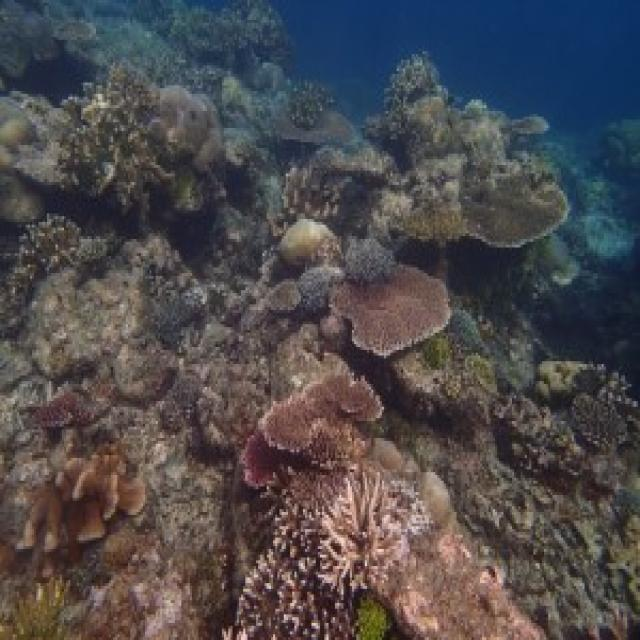Healthy: (61, 66, 210, 220), (383, 524, 545, 638), (234, 493, 355, 638), (244, 376, 381, 487), (370, 58, 507, 166), (385, 311, 496, 436), (18, 445, 146, 553), (1, 214, 110, 331), (29, 268, 144, 376), (402, 175, 568, 246), (283, 149, 411, 237), (319, 467, 406, 595), (330, 266, 451, 357), (123, 240, 206, 348), (551, 362, 639, 453), (1, 95, 61, 220), (496, 396, 581, 473), (148, 86, 221, 172), (1, 581, 65, 638), (280, 220, 336, 263), (300, 266, 344, 317), (349, 240, 396, 280)
